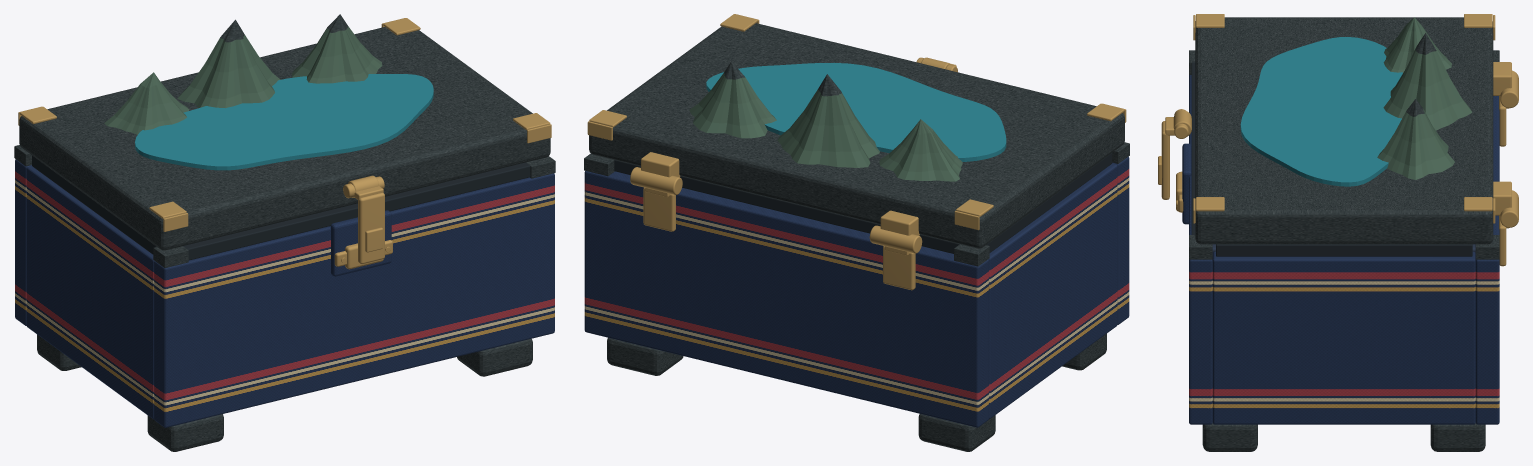
Rendered from guatemala.glb.
3 views of the same model, side by side, from view 1: azimuth 30°, elevation 25°; view 2: azimuth 150°, elevation 25°; view 3: azimuth 270°, elevation 25° (orthographic). The views are drawn at different scales.
Parts seen in each view (by area): view 1: Textile / front, Lid / polished slab, Textile / side, Terrain / contiguous lake, Seam / long, Terrain / volcano 2, Terrain / volcano 3, Terrain / volcano 1, Textile / rear, Volcanic / foot, Volcanic / foot.002, Textile / clasp seat (+4 smaller); view 2: Textile / rear, Lid / polished slab, Textile / side, Terrain / contiguous lake, Terrain / volcano 2, Terrain / volcano 3, Terrain / volcano 1, Seam / long.001, Textile / front, Volcanic / foot.001, Volcanic / foot.003, Seam / side (+9 smaller); view 3: Textile / side.001, Lid / polished slab, Terrain / contiguous lake, Textile / rear, Textile / front, Terrain / volcano 2, Terrain / volcano 3, Seam / side.001, Volcanic / foot.003, Volcanic / foot.002, Terrain / volcano 1, Seam / long (+12 smaller).
Part boxes in pixels (x1,y1,x2,y2): Textile / front: [154, 173, 554, 427]; Lid / polished slab: [19, 27, 550, 250]; Textile / side: [26, 166, 154, 419]; Terrain / contiguous lake: [135, 74, 433, 170]; Seam / long: [183, 162, 530, 260]; Terrain / volcano 2: [177, 19, 280, 108]; Terrain / volcano 3: [292, 14, 382, 83]; Terrain / volcano 1: [104, 72, 189, 134]; Textile / rear: [15, 159, 31, 325]; Volcanic / foot: [147, 414, 223, 451]; Volcanic / foot.002: [457, 338, 532, 376]; Textile / clasp seat: [330, 210, 391, 276]; Textile / rear: [584, 171, 988, 427]; Lid / polished slab: [589, 23, 1124, 248]; Textile / side: [988, 163, 1117, 418]; Terrain / contiguous lake: [706, 62, 1006, 161]; Terrain / volcano 2: [777, 74, 879, 167]; Terrain / volcano 3: [689, 61, 776, 138]; Terrain / volcano 1: [879, 119, 962, 181]; Seam / long.001: [614, 160, 959, 253]; Textile / front: [1112, 156, 1129, 324]; Volcanic / foot.001: [918, 414, 995, 451]; Volcanic / foot.003: [607, 337, 683, 375]; Seam / side: [986, 153, 1112, 252]; Textile / side.001: [1212, 251, 1475, 424]; Lid / polished slab: [1195, 17, 1493, 244]; Terrain / contiguous lake: [1240, 37, 1402, 186]; Textile / rear: [1475, 96, 1499, 424]; Textile / front: [1189, 75, 1212, 424]; Terrain / volcano 2: [1383, 33, 1472, 130]; Terrain / volcano 3: [1377, 99, 1454, 179]; Seam / side.001: [1216, 244, 1472, 256]; Volcanic / foot.003: [1430, 423, 1485, 451]; Volcanic / foot.002: [1202, 423, 1257, 451]; Terrain / volcano 1: [1383, 17, 1451, 72]; Seam / long: [1191, 62, 1195, 234].
Size of the model in its own units: 3.72 by 2.87 by 2.88.
Materials: 7 (2 with a texture image).
